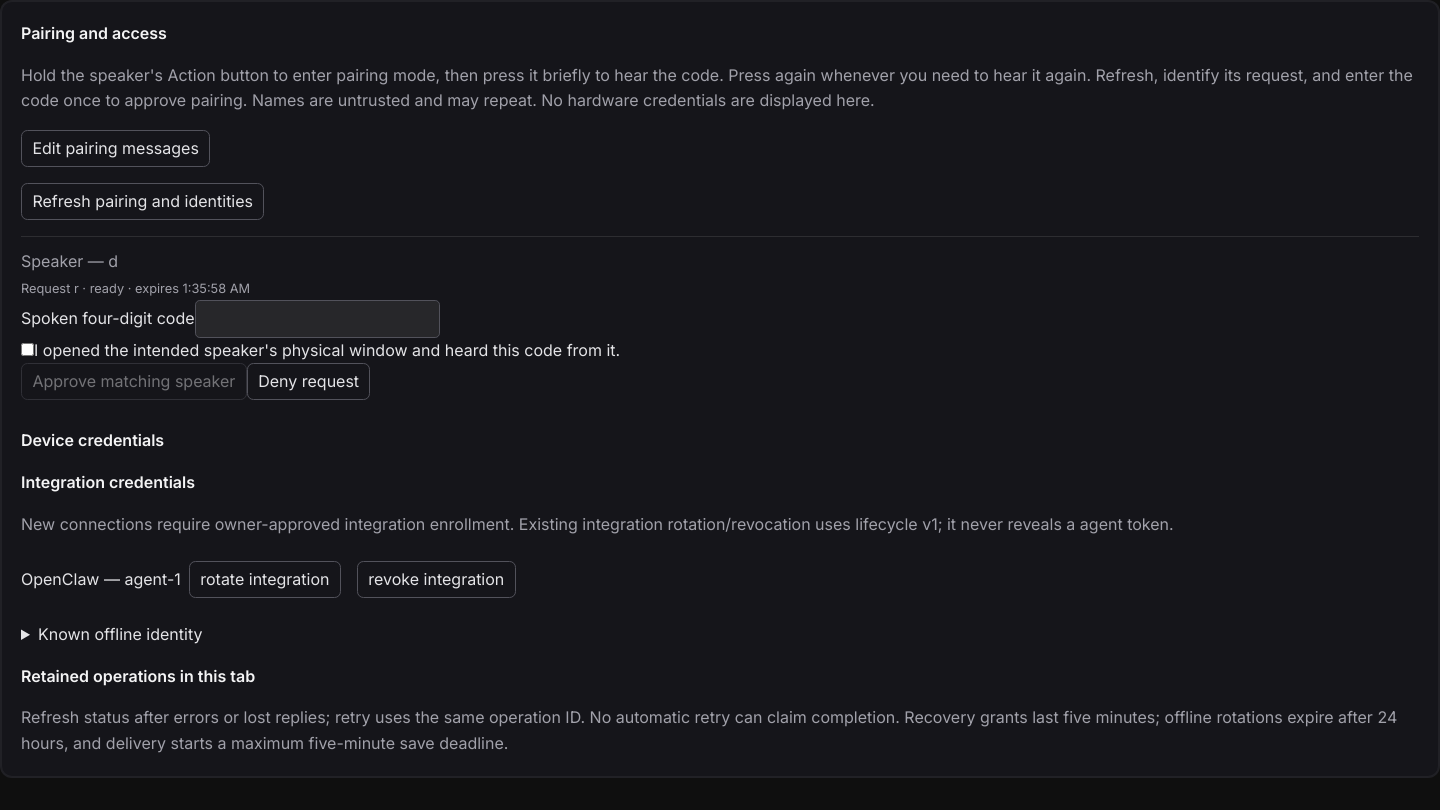
Test: accepts the code once and initiates then approves on one deliberate click
Type "0012" into the field labelled "Spoken four-digit code" at (317, 319), box [195,300,440,338]
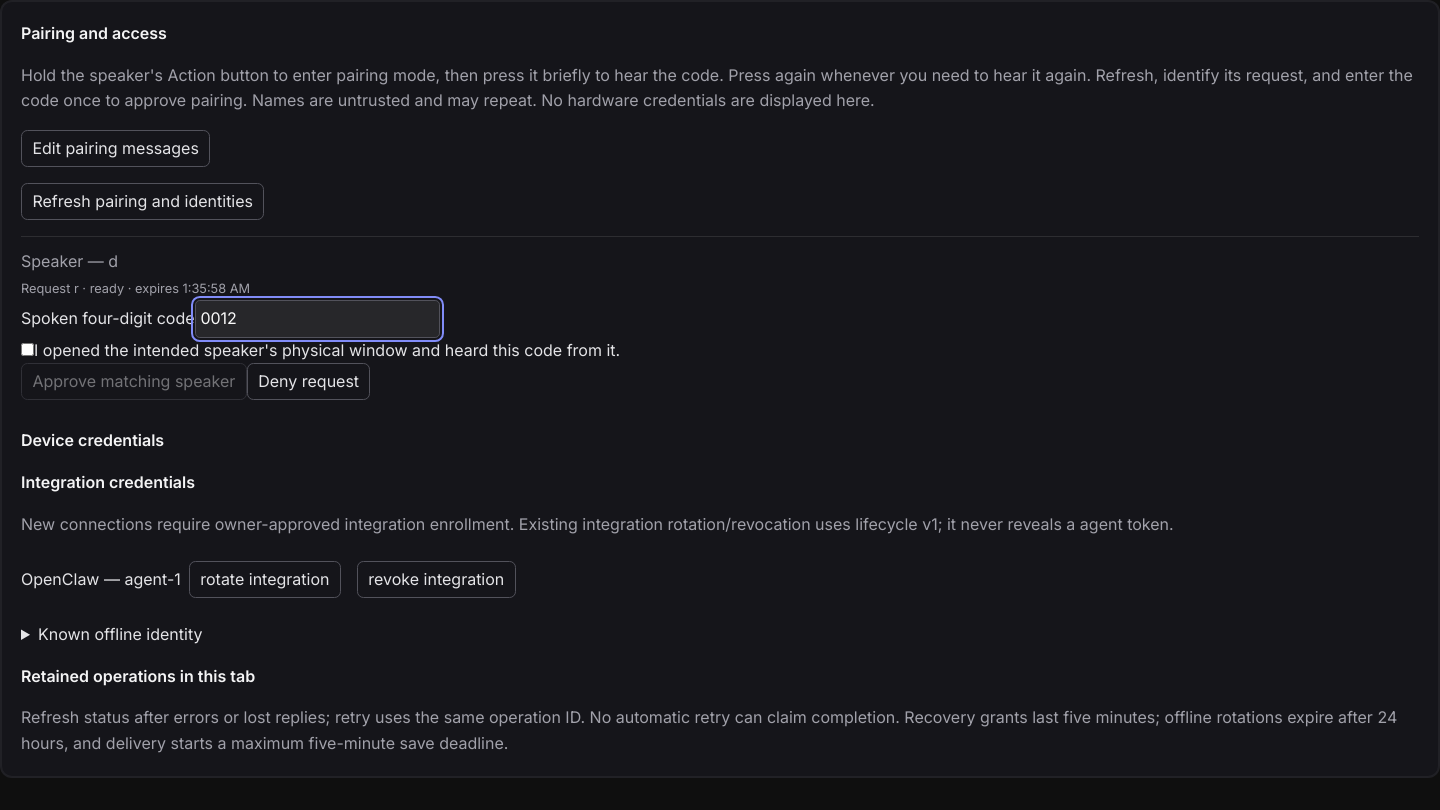
Click the checkbox at (28, 349), box [21,342,34,356]
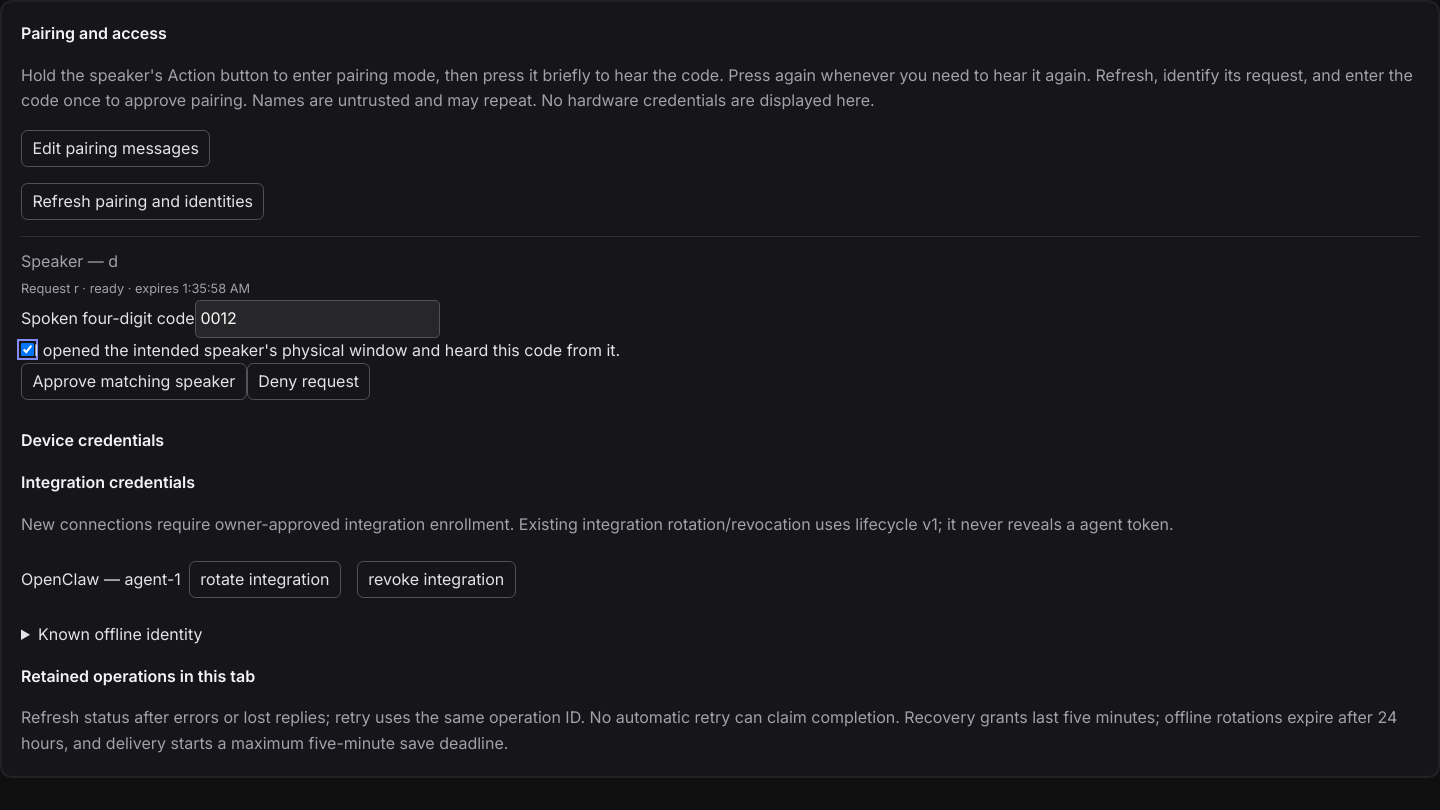
Click the button "Approve matching speaker" at (134, 382), box [21,363,247,400]
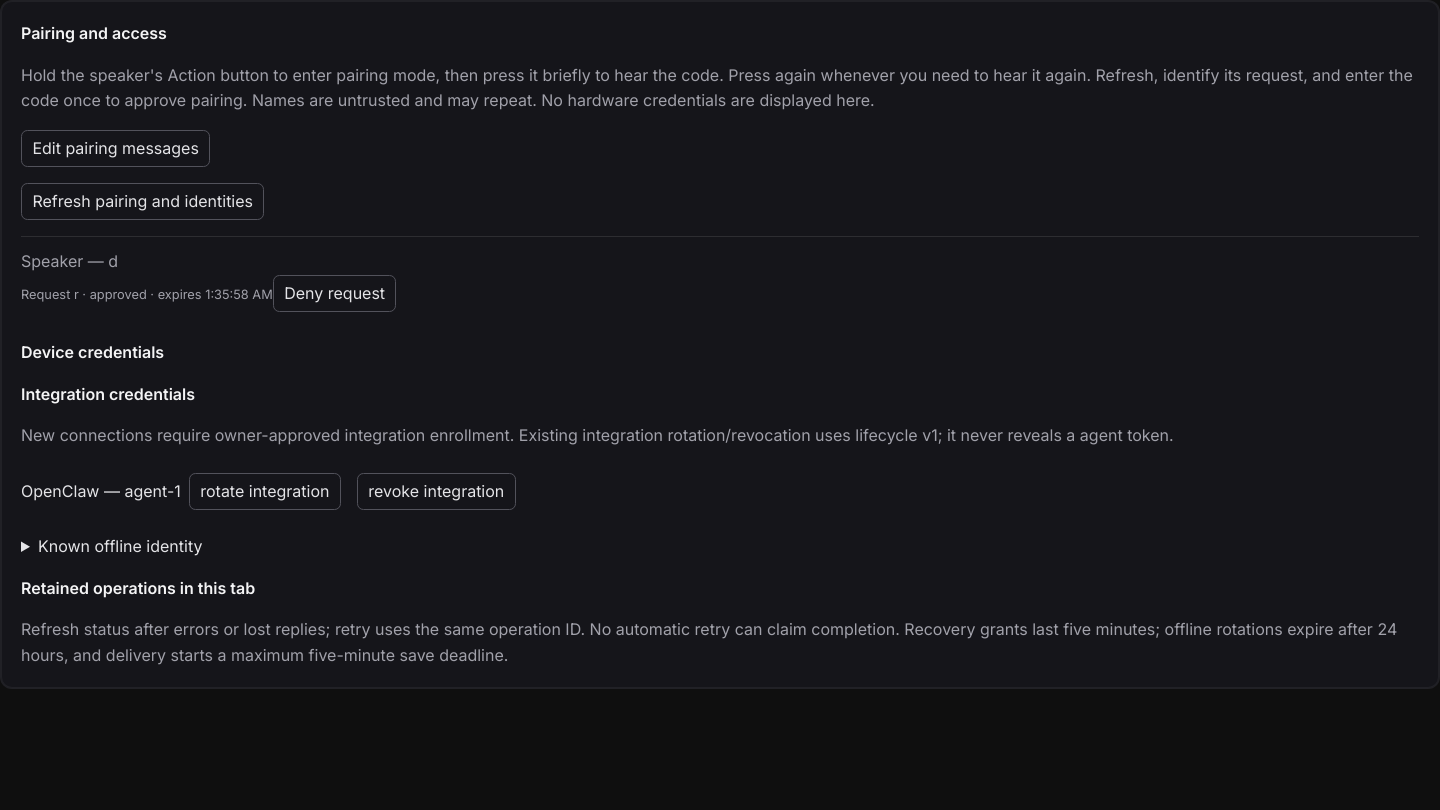
Check: the label labelled "Spoken four-digit code" is gone
